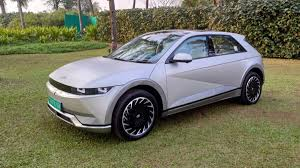Honda Ioniq: (36, 22, 271, 142)
